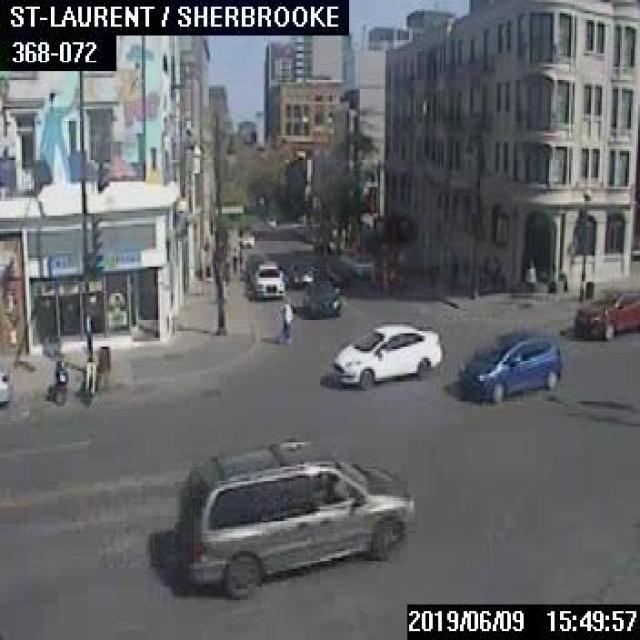pedestrian: (275, 296, 291, 344)
vehicle: (168, 438, 416, 596), (329, 320, 440, 387), (460, 329, 562, 398), (575, 285, 638, 335), (301, 278, 340, 316), (251, 261, 283, 297), (53, 356, 67, 402), (289, 262, 313, 286), (0, 369, 13, 404)
